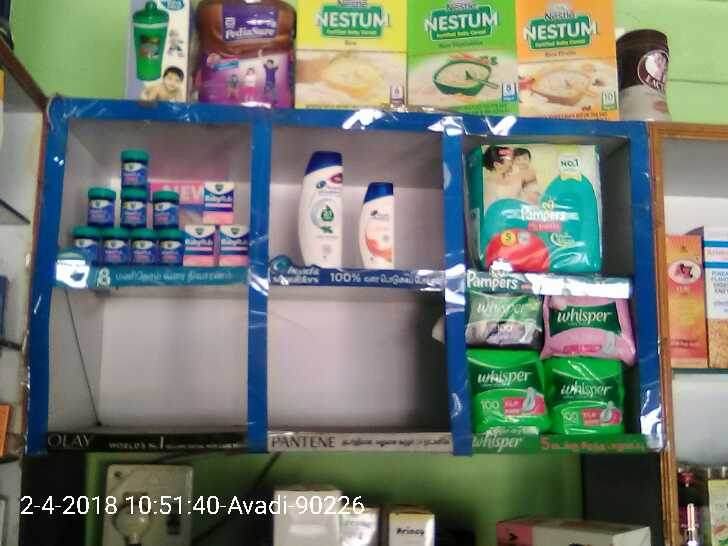vicks: (74, 135, 254, 270)
